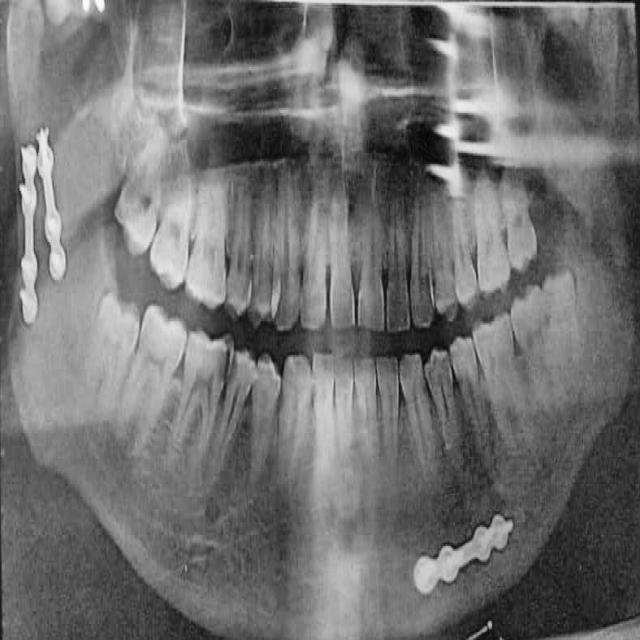karies: (218, 326, 257, 384)
